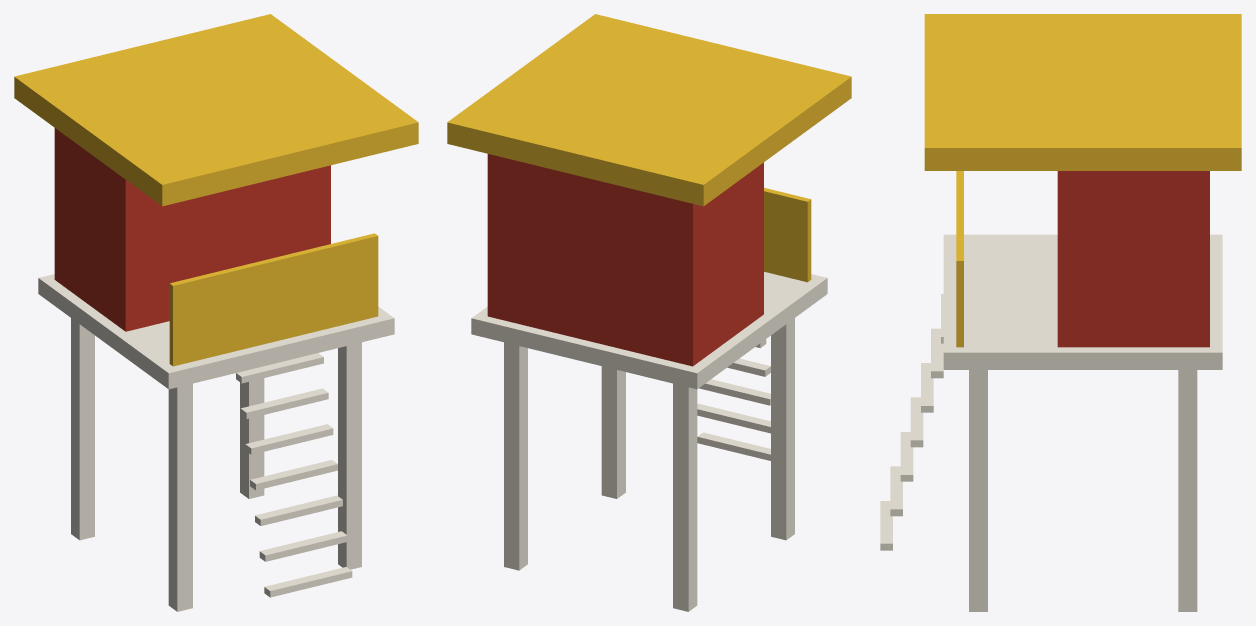
The model's file is prop_bh_lifeguard.glb.
3 renders of one model, left to right at view 1: azimuth 30°, elevation 25°; view 2: azimuth 150°, elevation 25°; view 3: azimuth 270°, elevation 25°, orthographic. The views are drawn at different scales.
Visible parts, largest first — view 1: prop_bh_lifeguard; view 2: prop_bh_lifeguard; view 3: prop_bh_lifeguard.
Boxes of the visible parts, x1,y1,x2,y2 form: prop_bh_lifeguard: (14, 14, 418, 611); prop_bh_lifeguard: (447, 14, 851, 611); prop_bh_lifeguard: (880, 14, 1241, 611).
Size of what is drawn, in the model's own units: 2.5 by 4.2 by 2.85.
